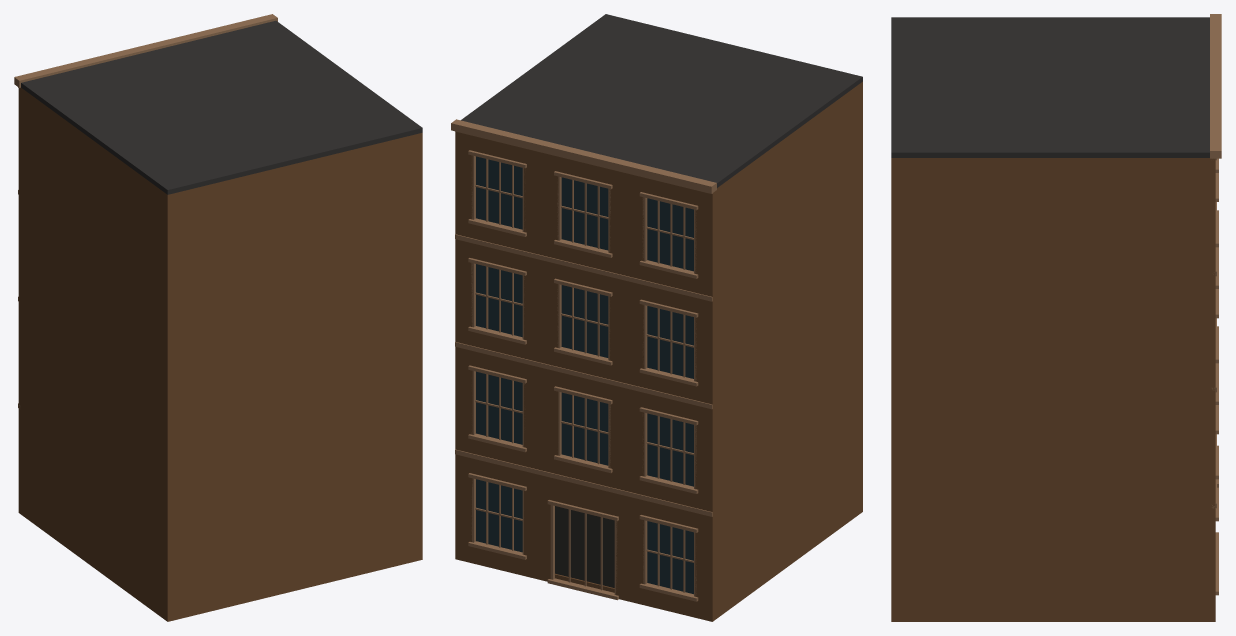
Rendered from warehouse_3b_4f.obj.
3 views of the same model, side by side, from view 1: azimuth 30°, elevation 25°; view 2: azimuth 150°, elevation 25°; view 3: azimuth 270°, elevation 25° (orthographic). The views are drawn at different scales.
Parts seen in each view (by area): view 1: rear_1, party_wall_2, roof_slab_163, foundation_0, cornice_162; view 2: party_wall_2, roof_slab_163, loading_door_20, cornice_162, recessed_glass_46, recessed_glass_8, recessed_glass_126, recessed_glass_139, recessed_glass_59, recessed_glass_99, recessed_glass_86, recessed_glass_152 (+54 smaller); view 3: side_3, roof_slab_163, rear_1, foundation_0, cornice_162, wall_pier_29, wall_pier_69, wall_pier_149, wall_pier_109.
Part boxes in pixels (x1=…): rear_1: x1=163, y1=133, x2=422, y2=621; party_wall_2: x1=20, y1=87, x2=174, y2=621; roof_slab_163: x1=21, y1=20, x2=422, y2=194; foundation_0: x1=20, y1=507, x2=422, y2=621; cornice_162: x1=14, y1=14, x2=277, y2=87; party_wall_2: x1=714, y1=82, x2=862, y2=617; roof_slab_163: x1=461, y1=14, x2=862, y2=187; loading_door_20: x1=555, y1=506, x2=614, y2=587; cornice_162: x1=451, y1=119, x2=716, y2=193; recessed_glass_46: x1=647, y1=413, x2=693, y2=486; recessed_glass_8: x1=647, y1=521, x2=693, y2=594; recessed_glass_126: x1=647, y1=198, x2=693, y2=271; recessed_glass_139: x1=561, y1=177, x2=608, y2=250; recessed_glass_59: x1=561, y1=392, x2=608, y2=465; recessed_glass_99: x1=561, y1=285, x2=608, y2=357; recessed_glass_86: x1=647, y1=306, x2=693, y2=378; recessed_glass_152: x1=476, y1=156, x2=522, y2=229; side_3: x1=891, y1=158, x2=1211, y2=621; roof_slab_163: x1=891, y1=17, x2=1209, y2=157; rear_1: x1=891, y1=158, x2=899, y2=621; foundation_0: x1=891, y1=614, x2=1211, y2=621; cornice_162: x1=1210, y1=14, x2=1221, y2=158; wall_pier_29: x1=1207, y1=506, x2=1215, y2=621; wall_pier_69: x1=1207, y1=390, x2=1215, y2=505; wall_pier_149: x1=1207, y1=158, x2=1215, y2=273; wall_pier_109: x1=1207, y1=274, x2=1215, y2=389.
Size of the model in its own units: 9.12 by 14.64 by 9.28.
